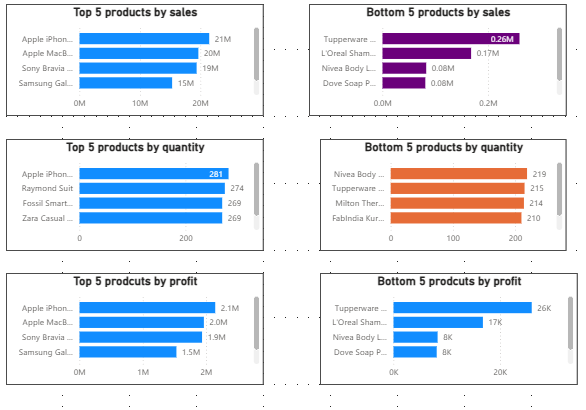

The page's visual inventory and layout, read from the dashboard file:
{"tool":"powerbi","page":{"name":"Top/Bottom analysis","canvas":[1280,720],"ordinal":1},"visuals":[{"type":"barChart","title":"Top 5 products by sales ","fields":{"Category":["Dim Product.Product Name"],"Y":["Sum(fact table.Net sales)"]},"box":[16,32,368,160],"z":0},{"type":"barChart","title":"Bottom 5 products by sales ","fields":{"Category":["Dim Product.Product Name"],"Y":["Sum(fact table.Net sales)"]},"box":[448,32,368,160],"z":1000},{"type":"barChart","title":"Top 5 products by quantity","fields":{"Category":["Dim Product.Product Name"],"Y":["Sum(fact table.Units Sold)"]},"box":[16,224,368,160],"z":2000},{"type":"barChart","title":"Bottom 5 products by quantity","fields":{"Category":["Dim Product.Product Name"],"Y":["Sum(fact table.Units Sold)"]},"box":[464,224,352,160],"z":3000},{"type":"barChart","title":"Top 5 prodcuts by profit","fields":{"Category":["Dim Product.Product Name"],"Y":["Sum(fact table.profit)"]},"box":[16,416,368,160],"z":4000},{"type":"barChart","title":"Bottom 5 prodcuts by profit","fields":{"Category":["Dim Product.Product Name"],"Y":["Sum(fact table.profit)"]},"box":[464,416,368,160],"z":5000}]}

Visuals, with their boxes on the page's 1280x720 design canvas (x1, y1, x2, y2). These are canvas units, not pixel positions in the 586x410 screenshot, which may show the page scaled, cropped or inside an application window:
"Top 5 products by sales " barChart: bbox(16, 32, 384, 192)
"Bottom 5 products by sales " barChart: bbox(448, 32, 816, 192)
"Top 5 products by quantity" barChart: bbox(16, 224, 384, 384)
"Bottom 5 products by quantity" barChart: bbox(464, 224, 816, 384)
"Top 5 prodcuts by profit" barChart: bbox(16, 416, 384, 576)
"Bottom 5 prodcuts by profit" barChart: bbox(464, 416, 832, 576)
